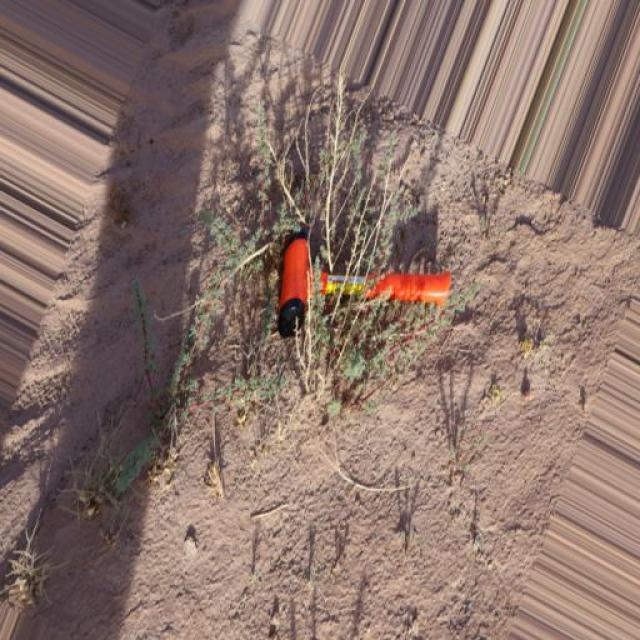mallet: (274, 228, 452, 338)
